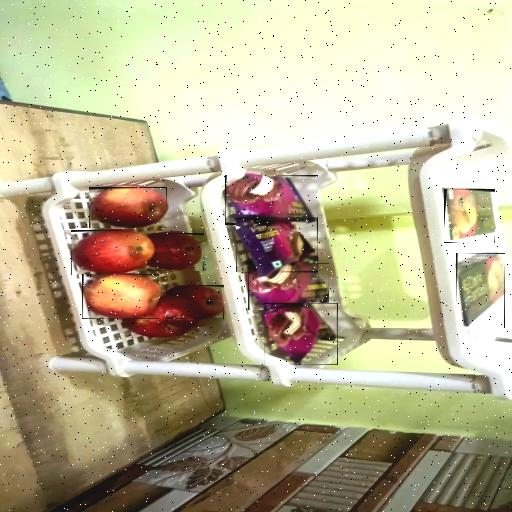Apple: (71, 230, 155, 275), (82, 274, 159, 319), (89, 187, 167, 228), (148, 233, 206, 271), (166, 285, 224, 319)
Choco Fills: (456, 253, 505, 328), (444, 189, 495, 243)
Choco Pie: (225, 175, 318, 225), (264, 303, 338, 365), (236, 218, 318, 272), (248, 263, 329, 310)
